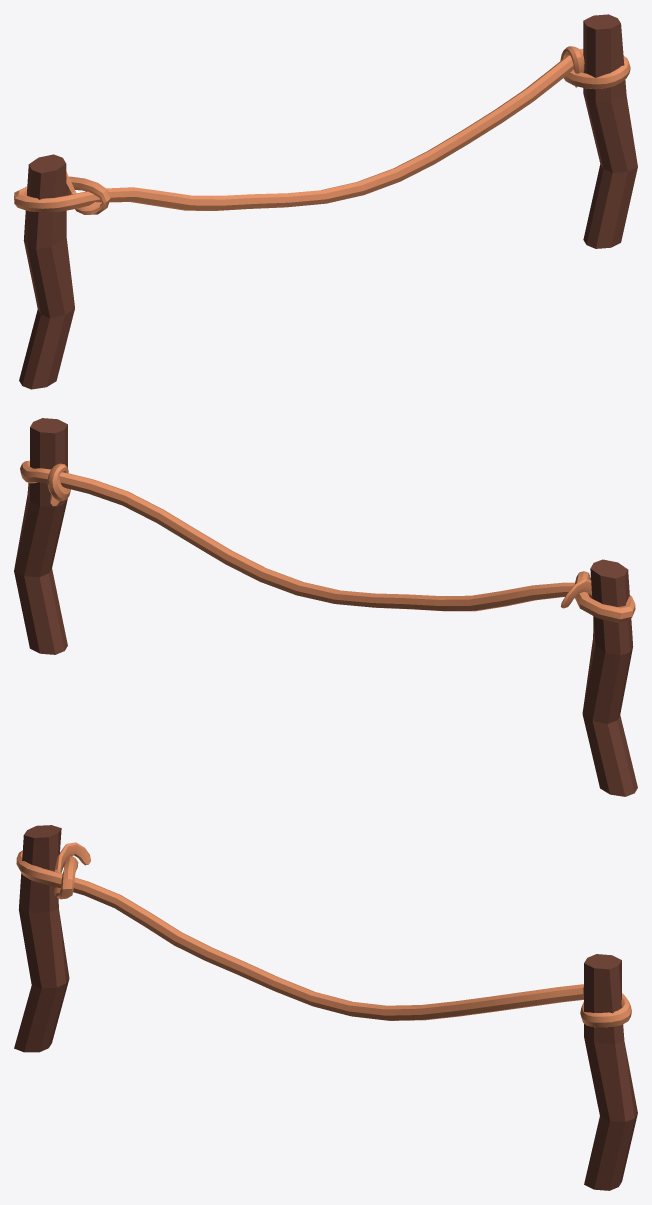
File: Rope-2.glb
3 views of the same model, one above another, from view 1: azimuth 30°, elevation 25°; view 2: azimuth 150°, elevation 25°; view 3: azimuth 330°, elevation 25° (orthographic).
Parts seen in each view (by area): view 1: Rope-2, Rope-2-stick-2, Rope-2-stick; view 2: Rope-2, Rope-2-stick, Rope-2-stick-2; view 3: Rope-2, Rope-2-stick-2, Rope-2-stick.
Part boxes in pixels (x1,y1,x2,y2): Rope-2: [14, 46, 630, 214]; Rope-2-stick-2: [583, 14, 637, 248]; Rope-2-stick: [19, 154, 74, 389]; Rope-2: [20, 460, 635, 622]; Rope-2-stick: [582, 559, 637, 796]; Rope-2-stick-2: [14, 418, 67, 654]; Rope-2: [16, 842, 631, 1027]; Rope-2-stick-2: [584, 954, 637, 1190]; Rope-2-stick: [14, 825, 69, 1052].
Size of what is drawn, in the model's own units: 1.51 by 0.5208 by 0.1604.
